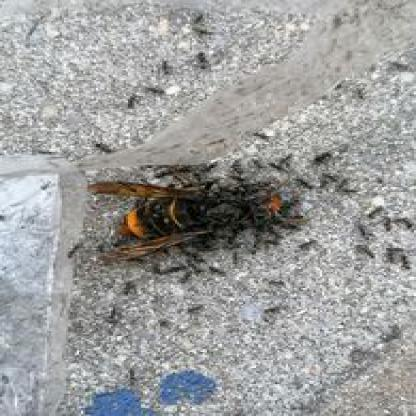Asian Hornet: (75, 163, 283, 270)
